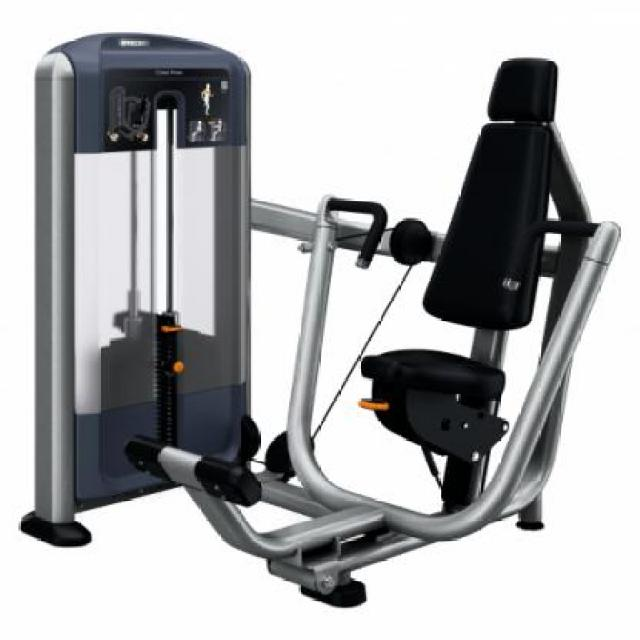Chest Press machine: (17, 25, 625, 612)
